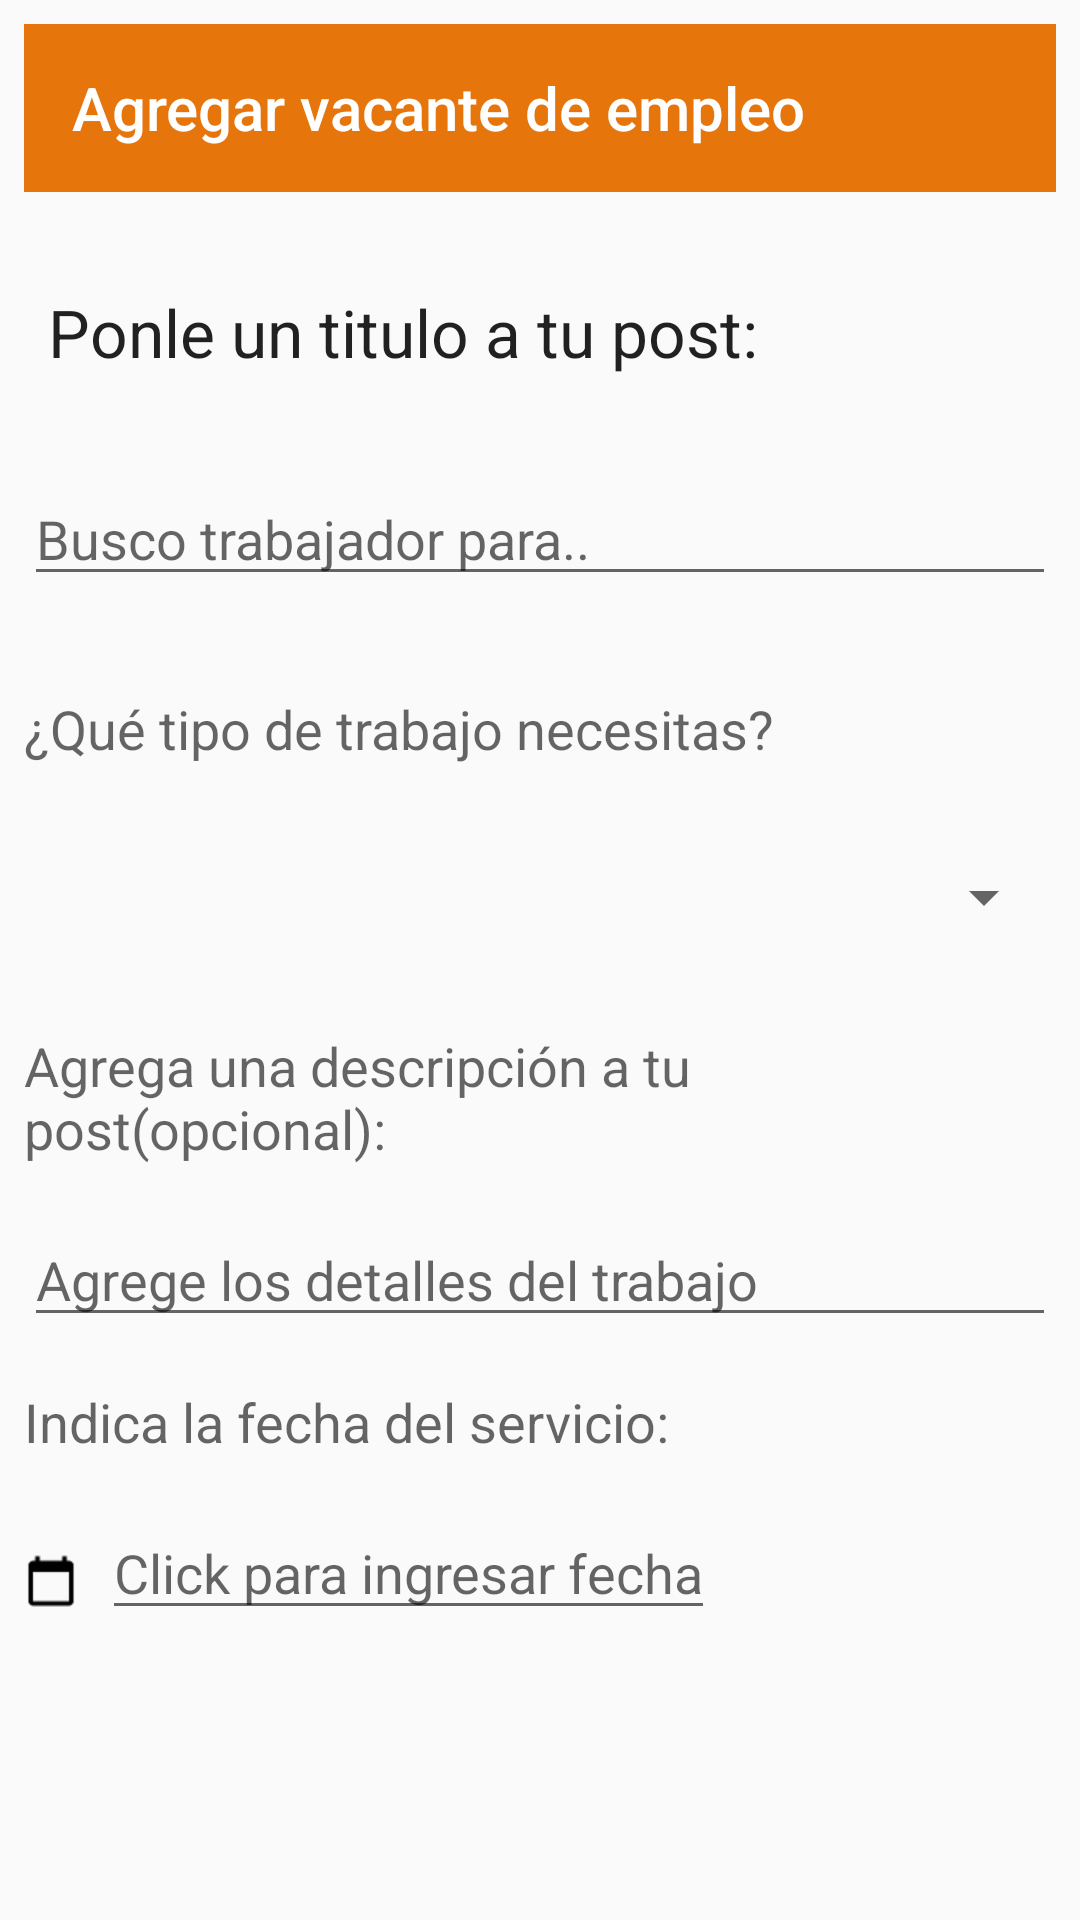

Named icons in this screenshot (1080px×1920px) and their bounding boxes, [left=x1, top=y1, right=x2, bottom=y2]:
calendar: [left=28, top=1555, right=74, bottom=1607]
